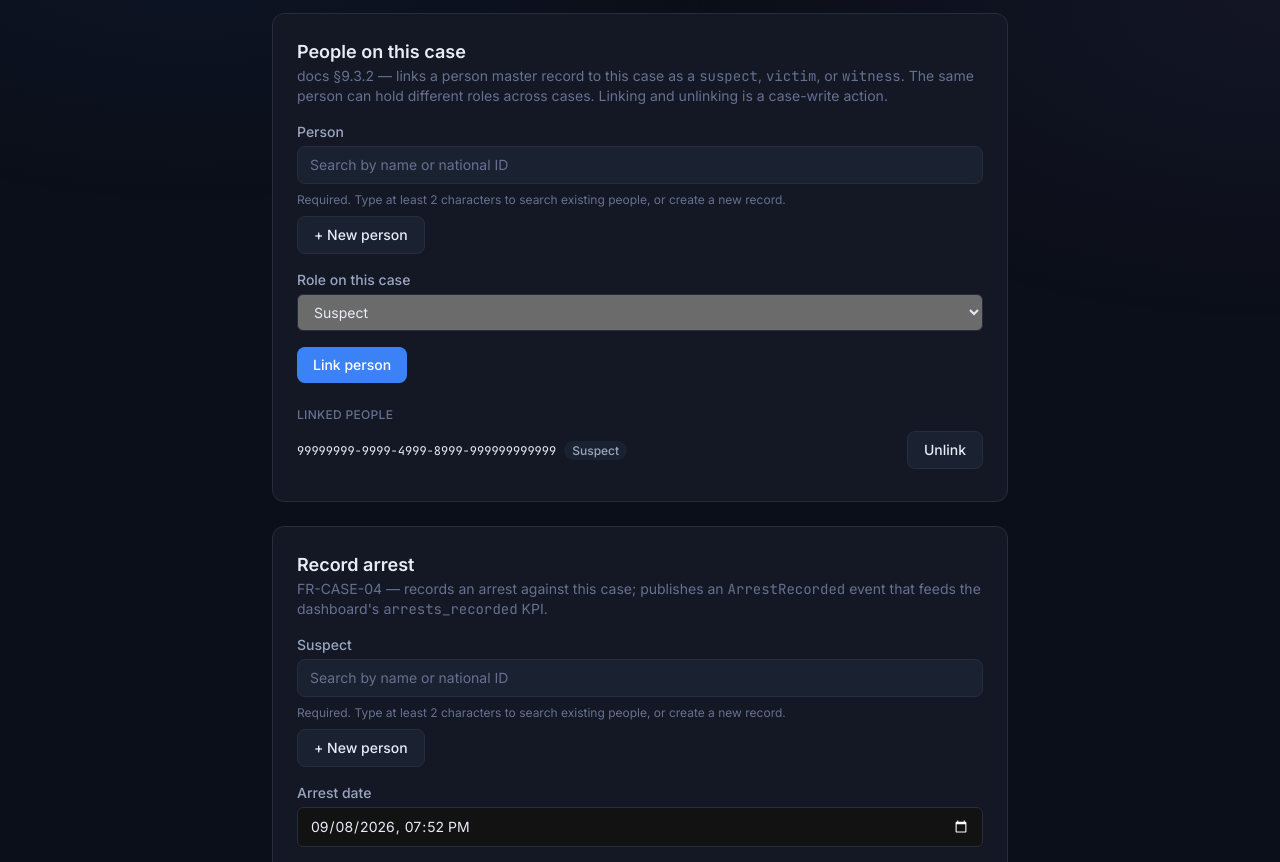
Test: CaseDetailPage › people on this case (case_persons) › unlinks a person for a specific role via DELETE and refetches
(page scrolled)
Check: the text "99999999-9999-4999-8999-999999999999" is shown, box top-left (297, 443), bottom-right (556, 459)
Click the button "Unlink" at point(945, 450), box top-left (907, 431), bottom-right (983, 469)
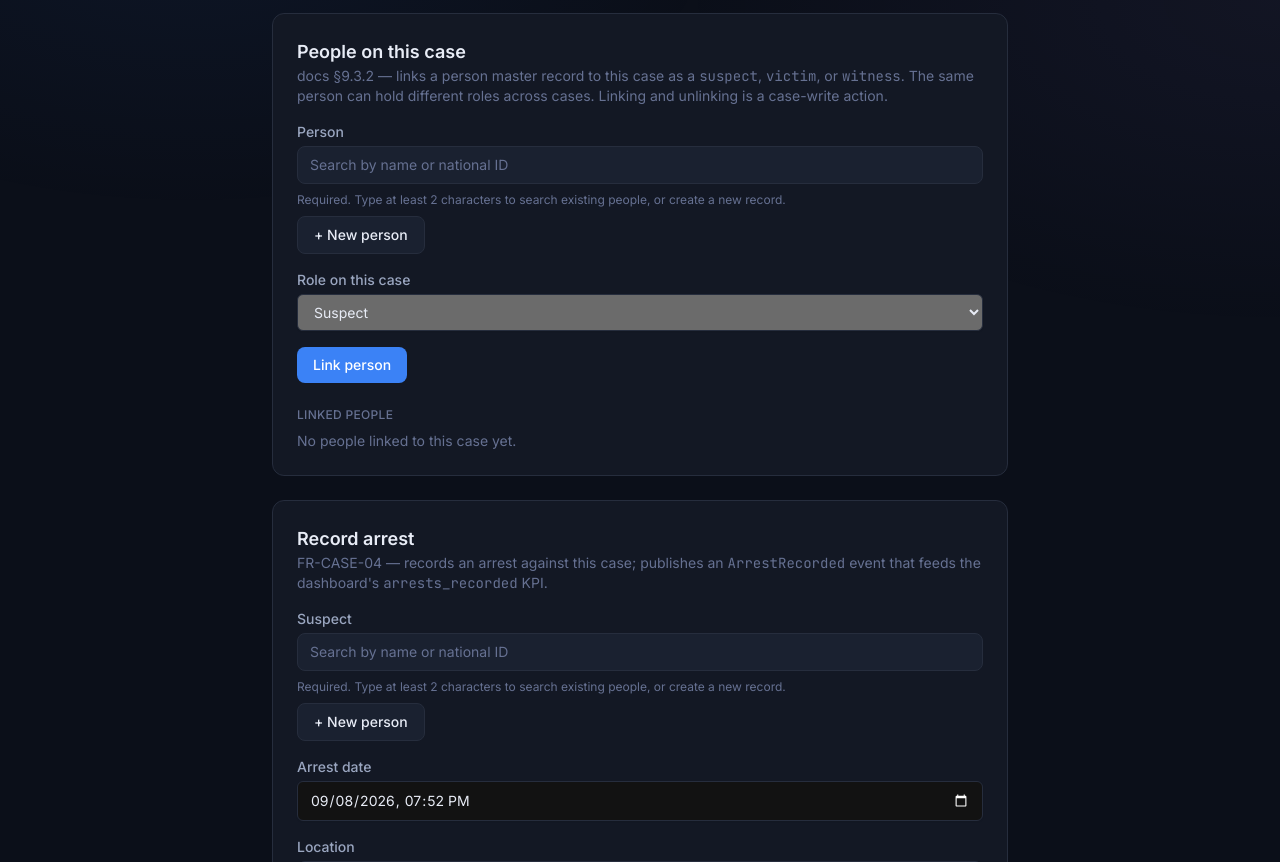
Check: the text "No people linked to this case yet." is shown, box top-left (297, 432), bottom-right (516, 449)
